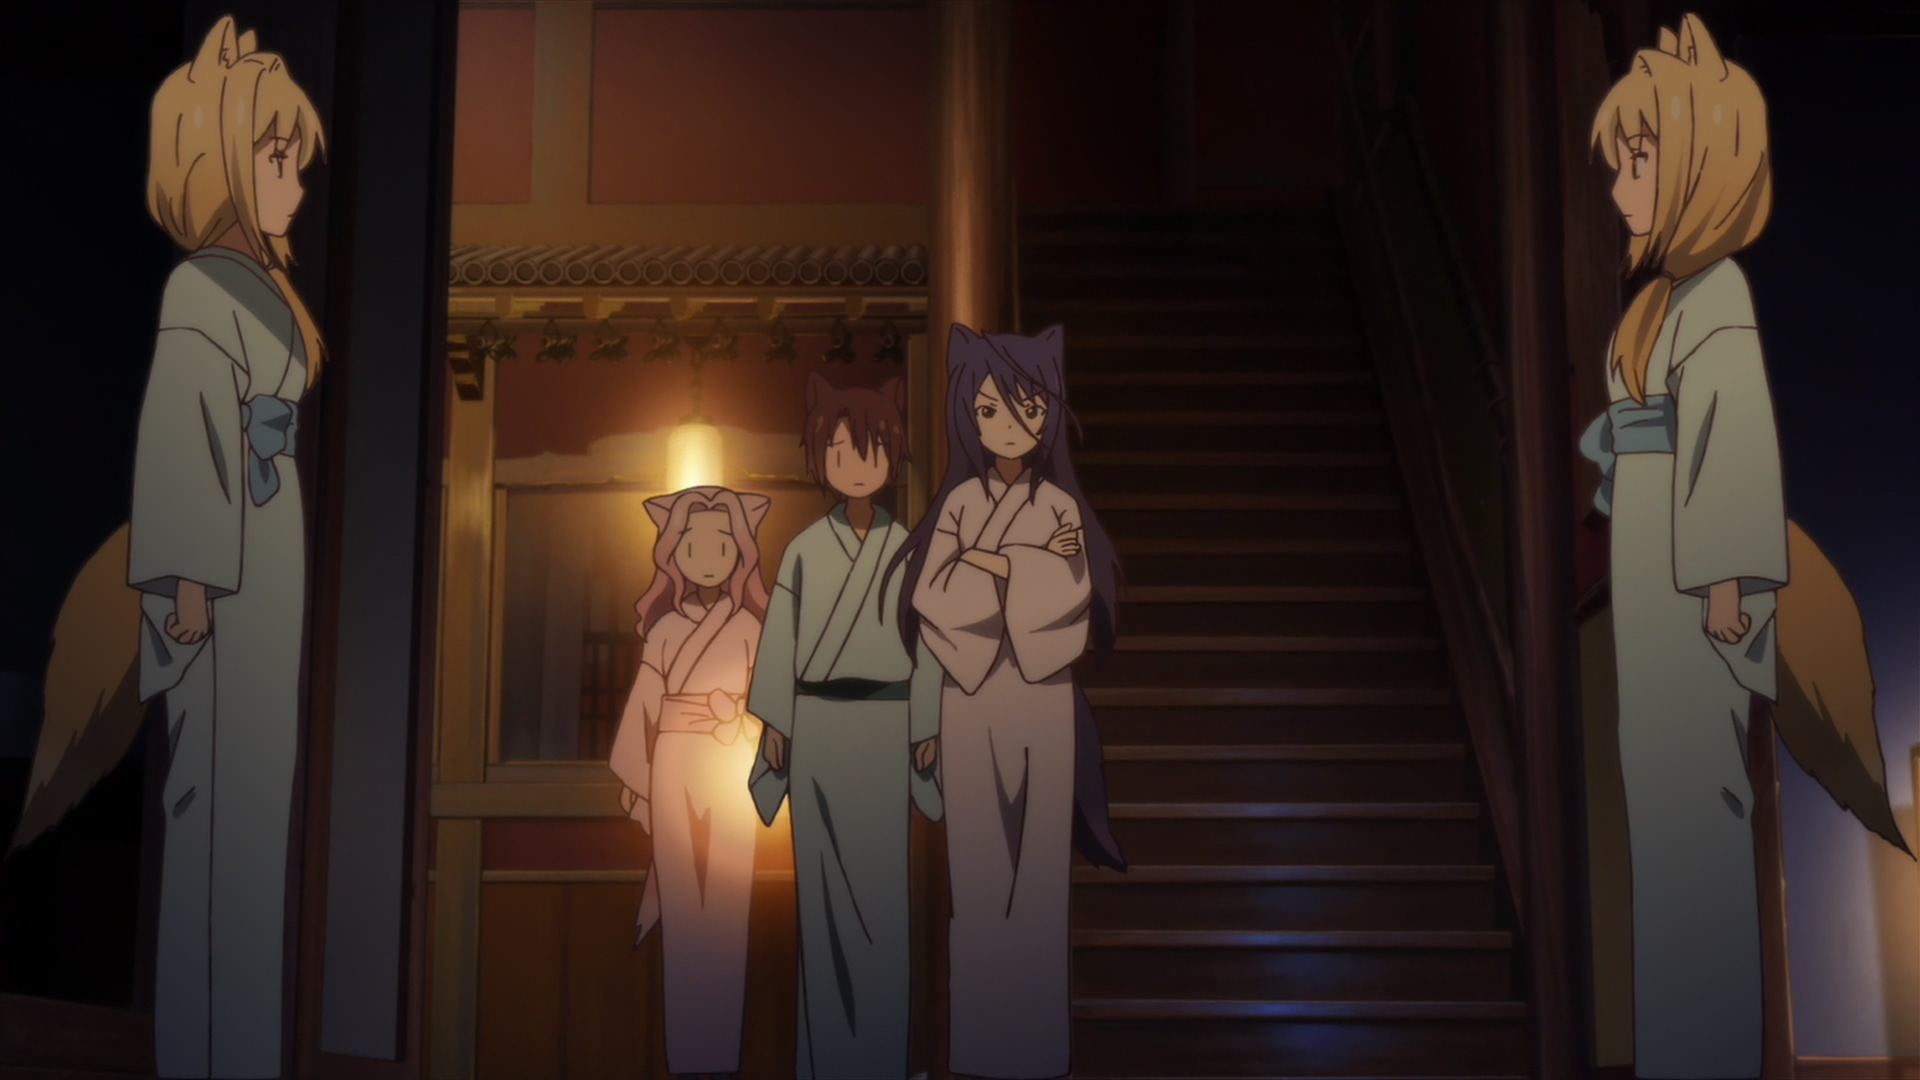枣: (748, 369, 945, 1080)
桐: (1575, 15, 1920, 1080), (20, 18, 328, 1080)
皋: (911, 319, 1127, 1080)
莲: (605, 485, 773, 1080)
